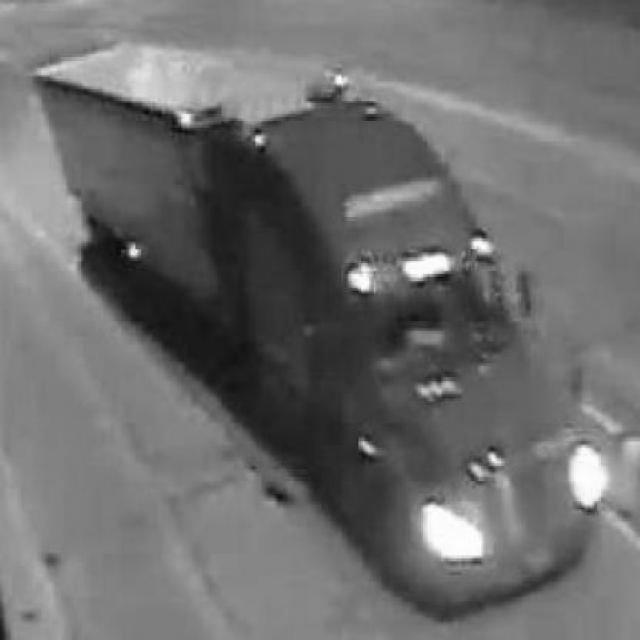Box Truck: (32, 38, 610, 608)
